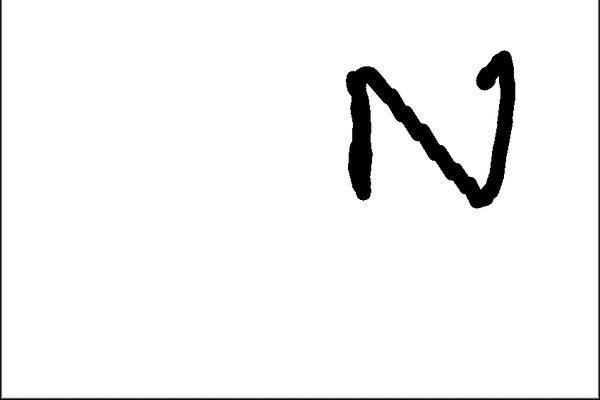N: (339, 43, 519, 215)
